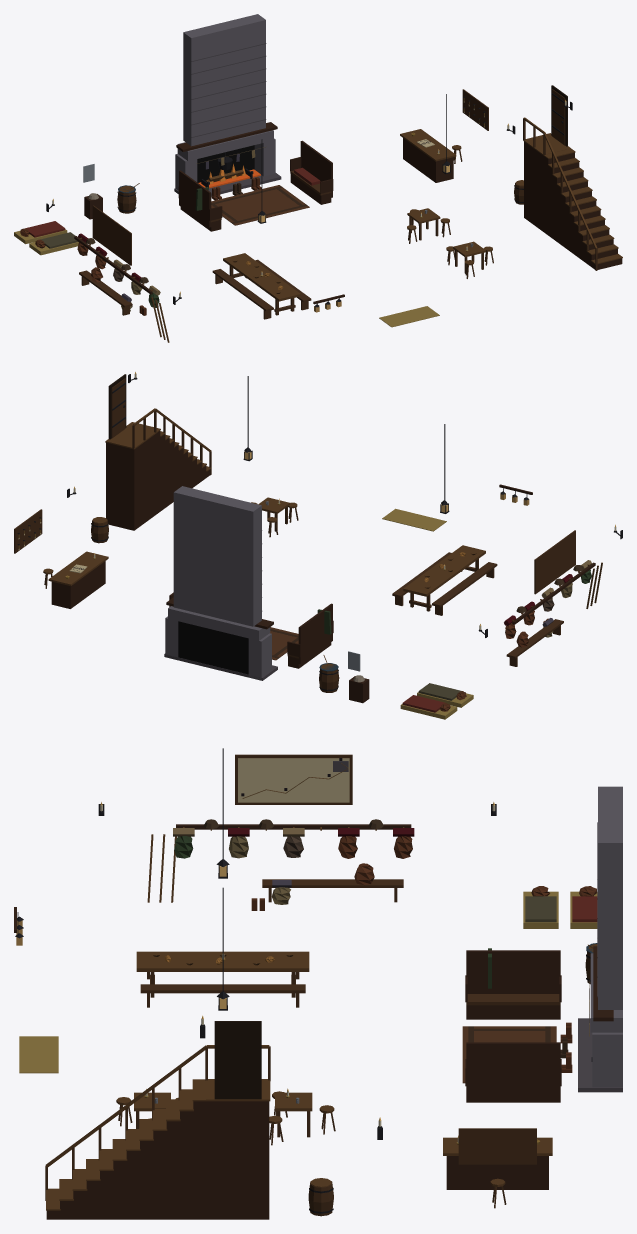
The model's file is southgate-rest.glb.
3 renders of one model, top to bottom at view 1: azimuth 30°, elevation 25°; view 2: azimuth 150°, elevation 25°; view 3: azimuth 270°, elevation 25°, orthographic. The views are drawn at different scales.
Parts seen in each view (by area): view 1: southgate-rest; view 2: southgate-rest; view 3: southgate-rest.
Boxes of the visible parts, x1,y1,x2,y2 form: southgate-rest: [14, 14, 622, 342]; southgate-rest: [14, 372, 622, 719]; southgate-rest: [14, 748, 622, 1219].
Size of the model in its own units: 19.61 by 6.83 by 15.52.
